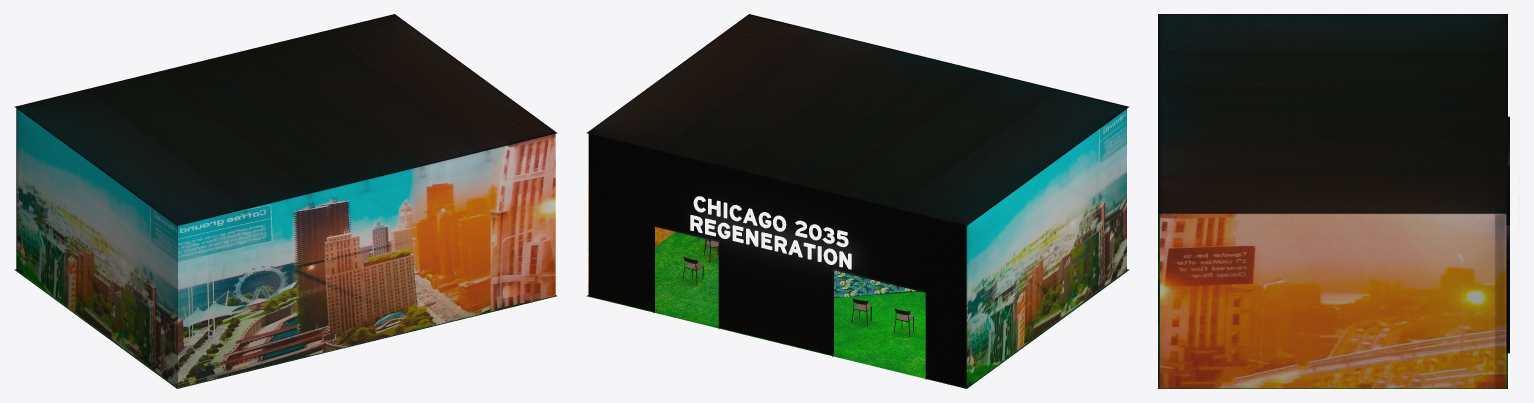
Rendered from CR_2035_BAKED_opaque.glb.
3 views of the same model, side by side, from view 1: azimuth 30°, elevation 25°; view 2: azimuth 150°, elevation 25°; view 3: azimuth 270°, elevation 25° (orthographic). The views are drawn at different scales.
Parts seen in each view (by area): view 1: CR_2035_video_wall, CR_2035_ceiling, CR_2035_floor; view 2: CR_2035_ceiling, CR_2035_wall, CR_2035_video_wall, CR_2035_floor, CR_2035_signage, CR_2035_blanket, CR_2035_furniture; view 3: CR_2035_ceiling, CR_2035_video_wall, CR_2035_floor, CR_2035_wall.
Part boxes in pixels (x1,y1,x2,y2): CR_2035_video_wall: [17, 109, 555, 387]; CR_2035_ceiling: [14, 14, 557, 225]; CR_2035_floor: [14, 269, 557, 388]; CR_2035_ceiling: [586, 14, 1129, 225]; CR_2035_wall: [589, 134, 966, 387]; CR_2035_video_wall: [588, 109, 1126, 386]; CR_2035_floor: [586, 232, 1129, 388]; CR_2035_signage: [690, 196, 851, 269]; CR_2035_blanket: [834, 270, 917, 297]; CR_2035_furniture: [682, 239, 913, 336]; CR_2035_ceiling: [1158, 14, 1507, 213]; CR_2035_video_wall: [1160, 213, 1506, 388]; CR_2035_floor: [1158, 213, 1507, 388]; CR_2035_wall: [1506, 116, 1509, 353].
Size of the model in its own units: 12.32 by 5.05 by 9.44.
8 materials, 7 textured.
